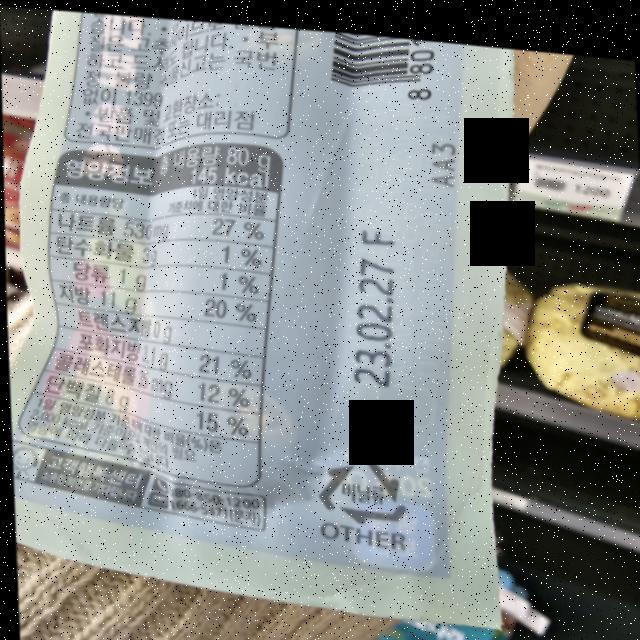Vinyl: (308, 439, 409, 523)
